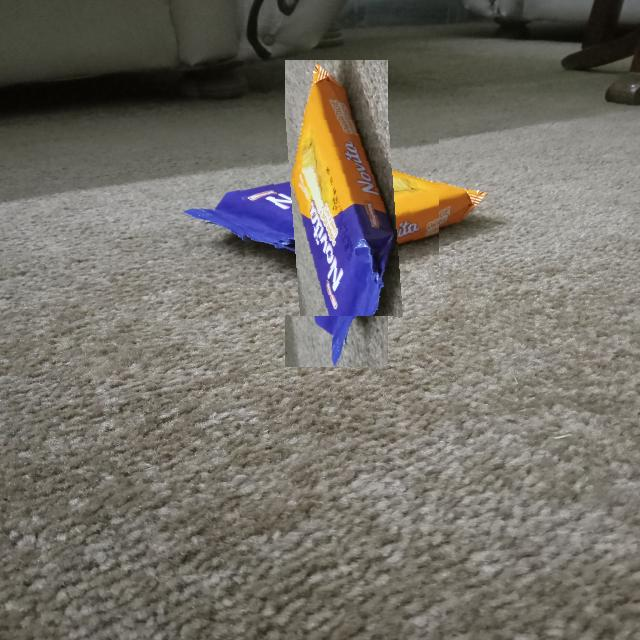Plastic: (234, 111, 439, 316)
